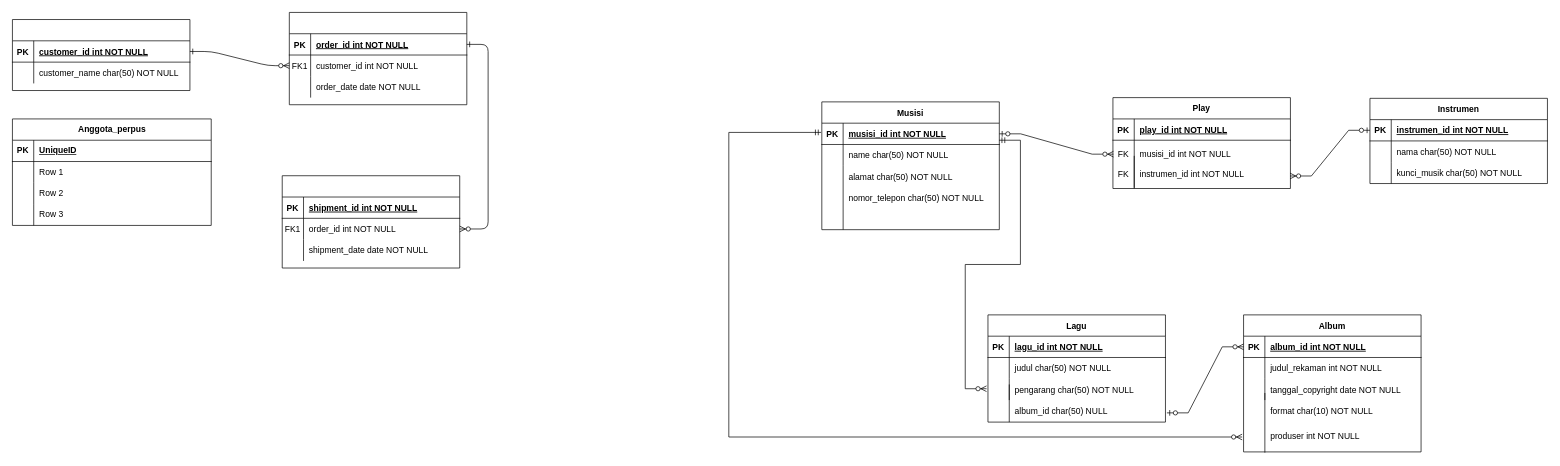
Image size: 1560x466. Some labels were removed from this diagram. Here are the shapes that lost their labels. From the top down, the box of each, then its label:
(12, 19, 190, 91): BUKU
(289, 12, 467, 105): RAK_BUKU
(282, 175, 460, 268): Peminjaman
